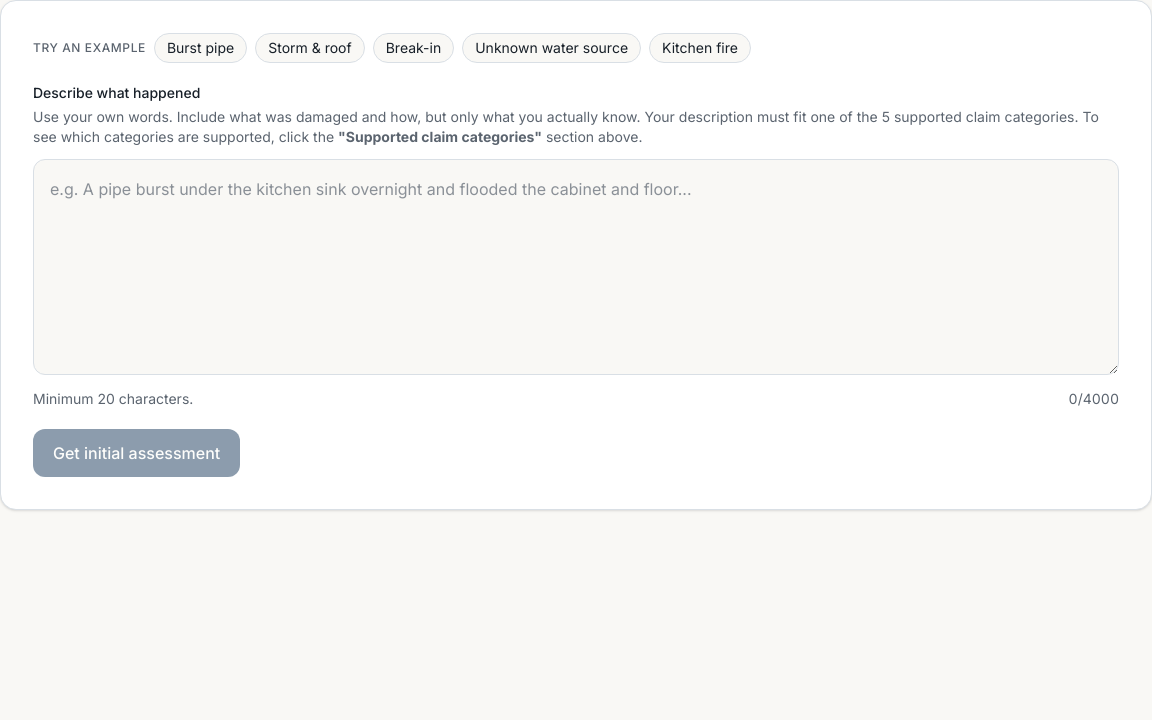
Scenario: IntakeForm › shows a safe error for a provider failure
This screenshot has width=1152, height=720.
In the text box labelled "Describe what happened": (576, 267) 33,159 -> 1119,375, type "A pipe burst under the kitchen sink and damaged the cabinet and floor."
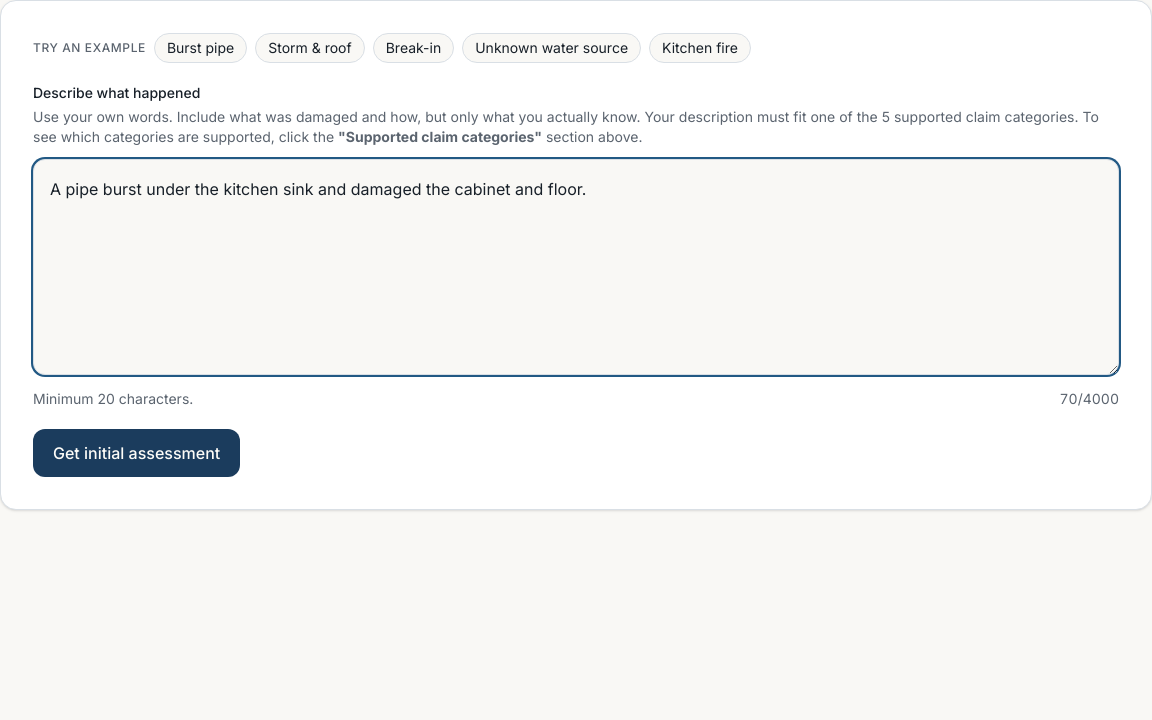
Click the button "Get initial assessment": (137, 453) 33,429 -> 240,477
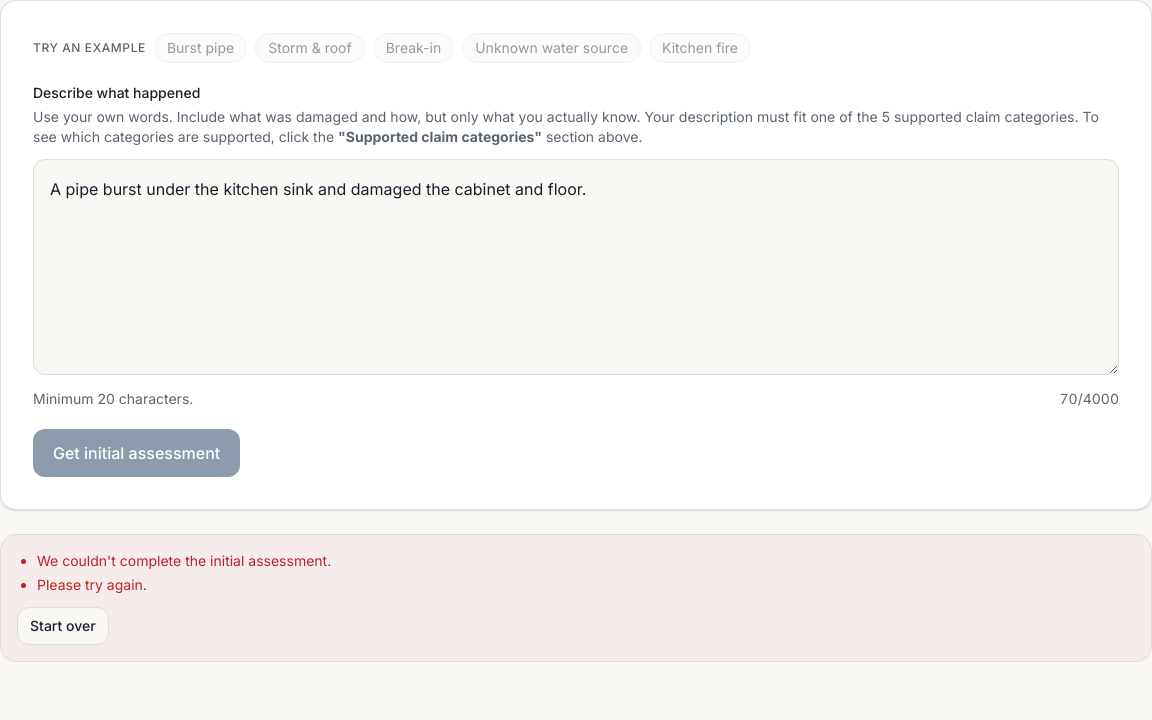
Expected: the message shows "We couldn't complete the initial assessment. Please try again.", 0,534 -> 1151,662
